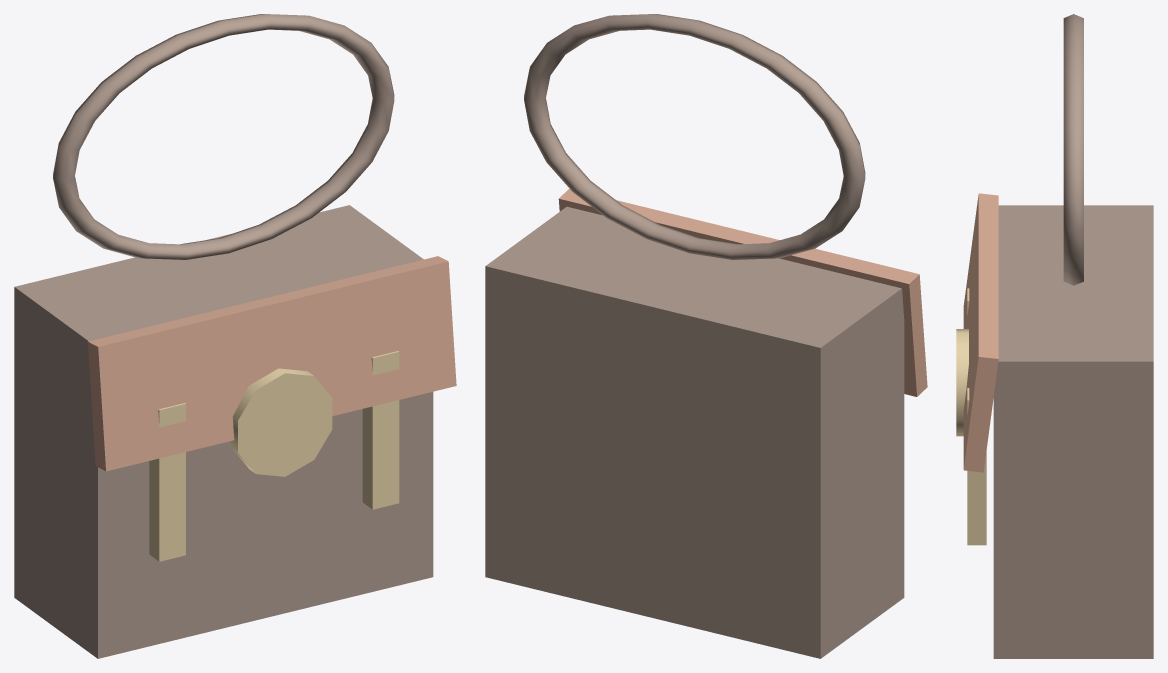
File: prop-bag.glb
3 views of the same model, side by side, from view 1: azimuth 30°, elevation 25°; view 2: azimuth 150°, elevation 25°; view 3: azimuth 270°, elevation 25° (orthographic). The views are drawn at different scales.
Visible parts, largest first — view 1: bag; view 2: bag; view 3: bag.
Part boxes in pixels (<box>): bag: <box>14,14,456,658</box>; bag: <box>485,14,927,658</box>; bag: <box>956,14,1153,658</box>.
Size of the model in its own units: 0.46 by 0.7106 by 0.2345.
